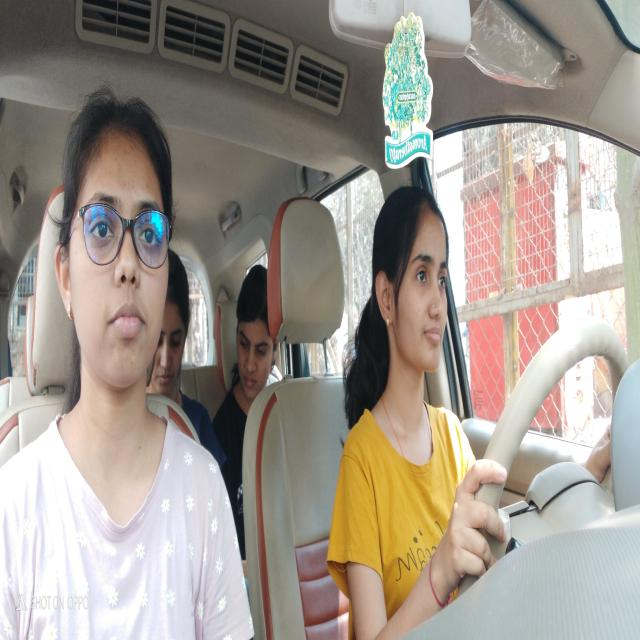person: (54, 81, 178, 388), (370, 178, 458, 384), (232, 265, 282, 411), (149, 255, 194, 396)
